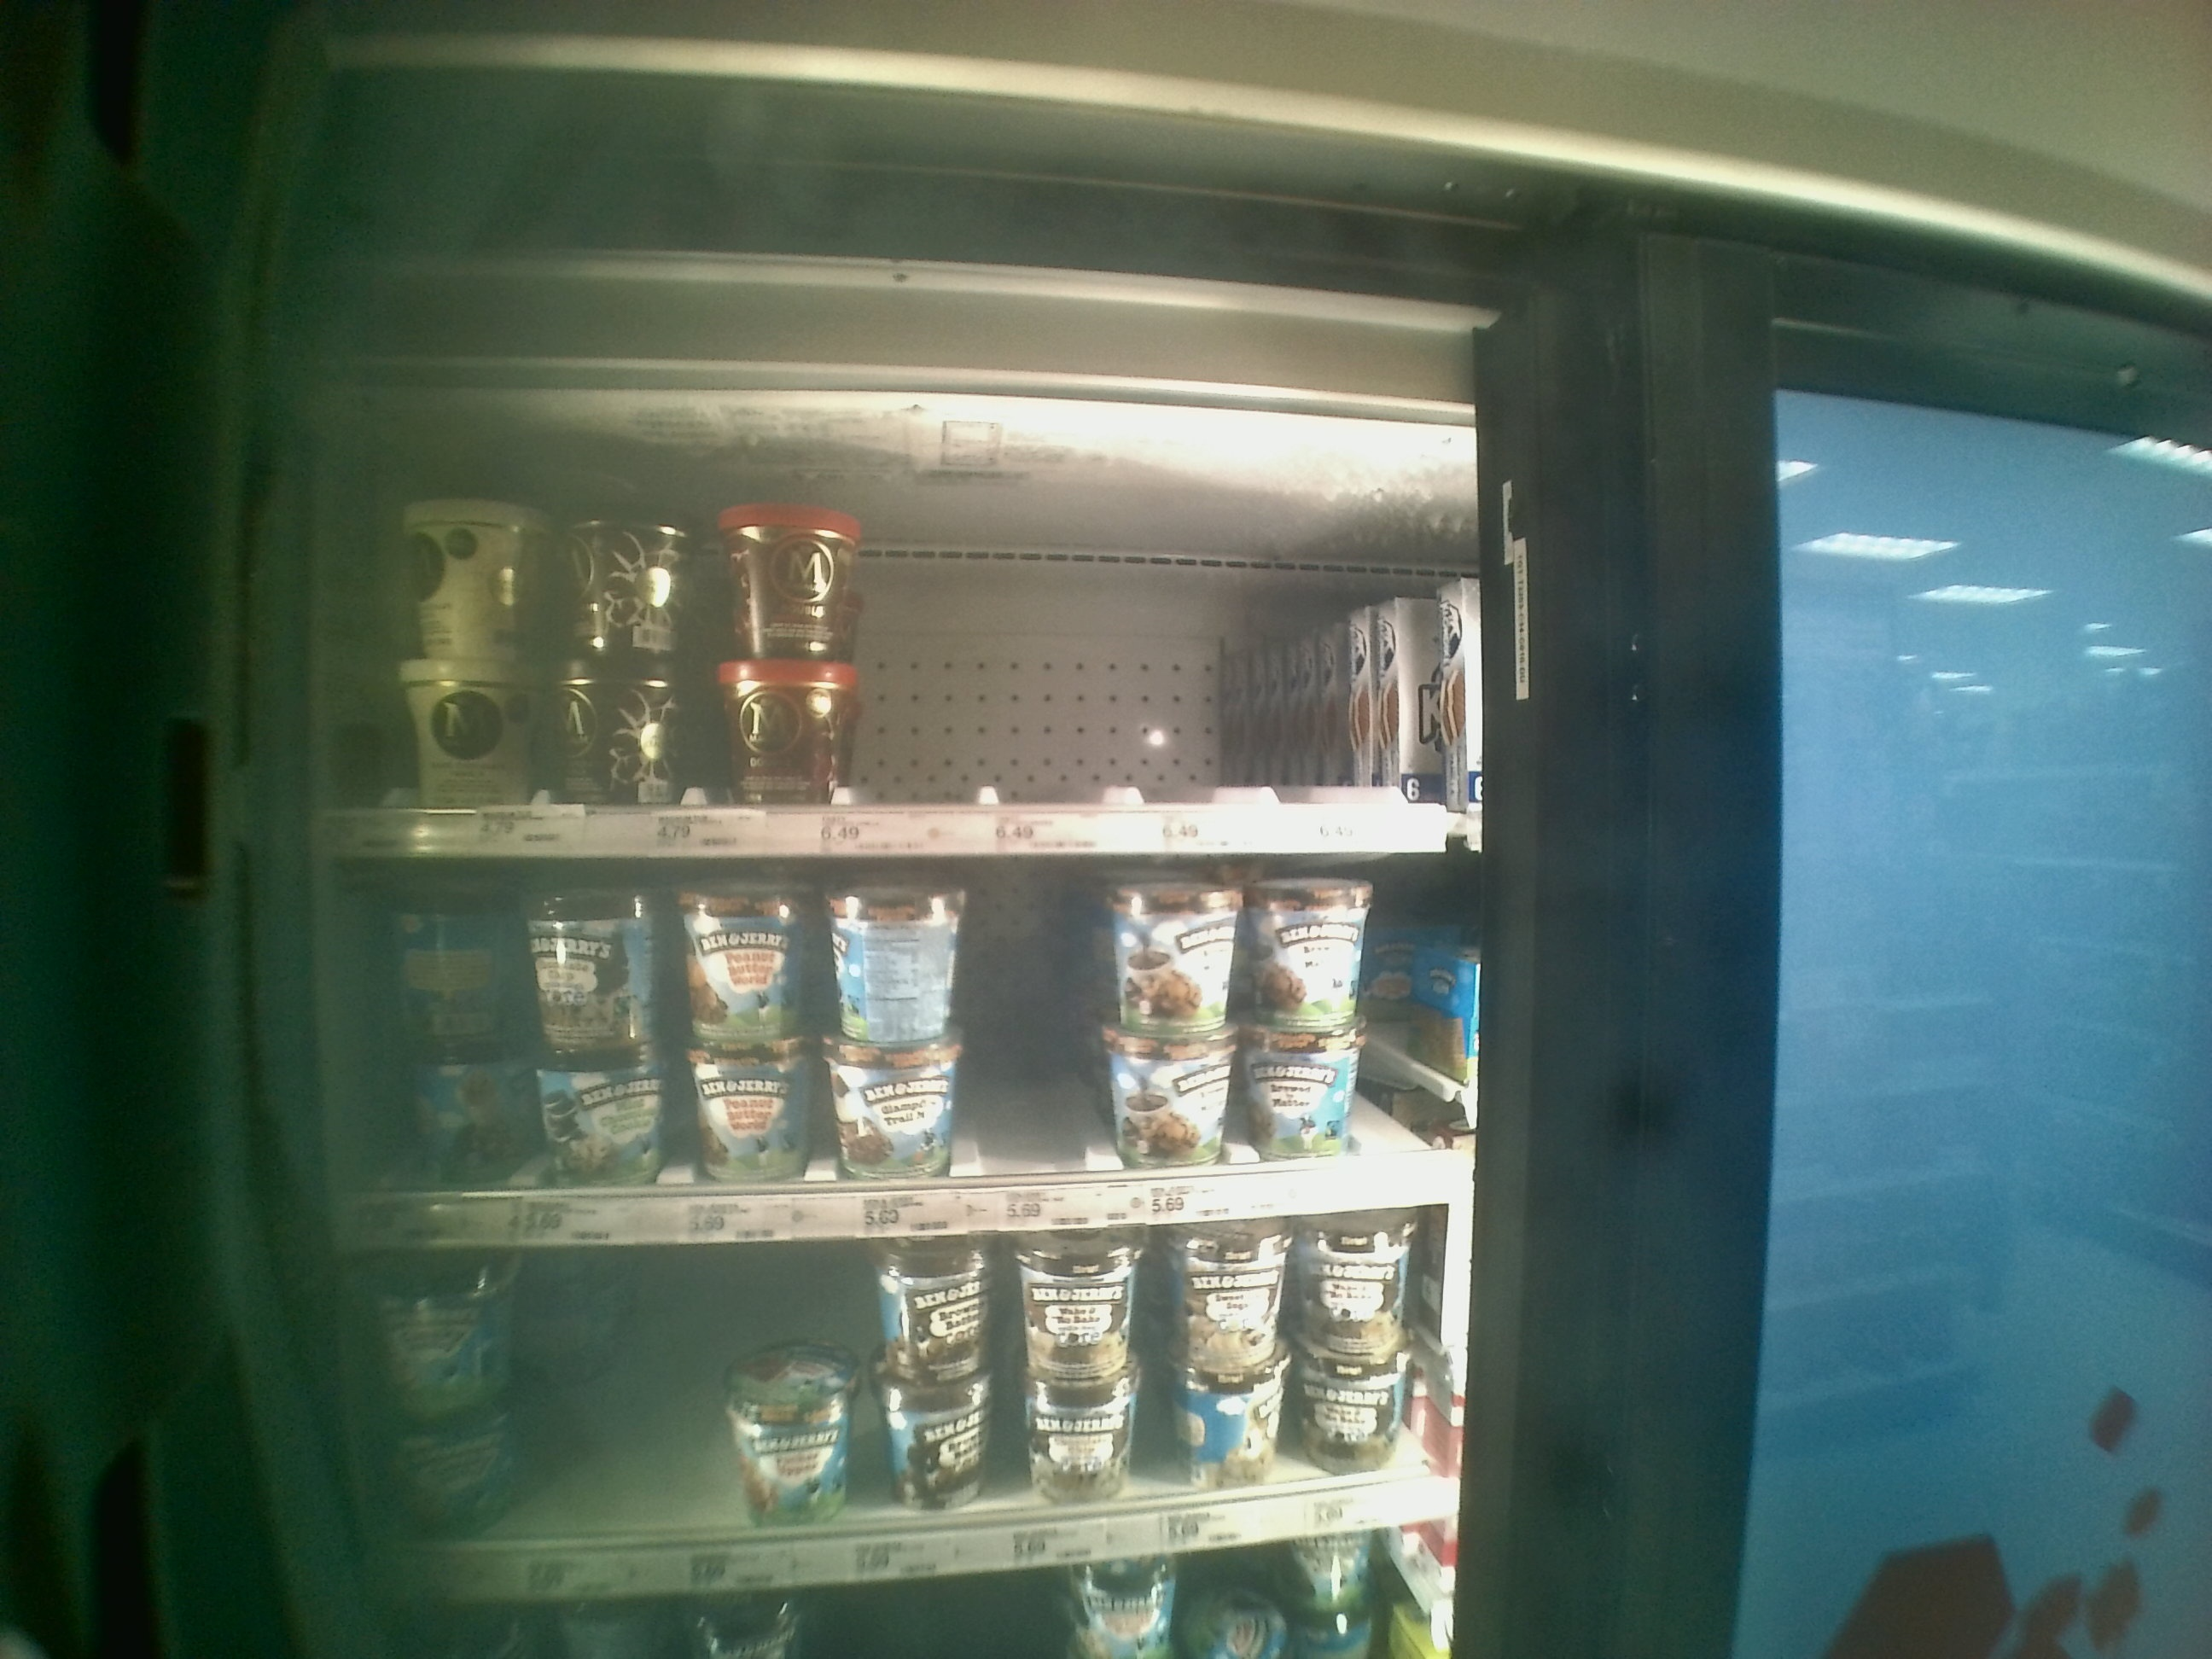ice-cream-shelf: (343, 422, 1493, 859), (341, 864, 1496, 1234)
